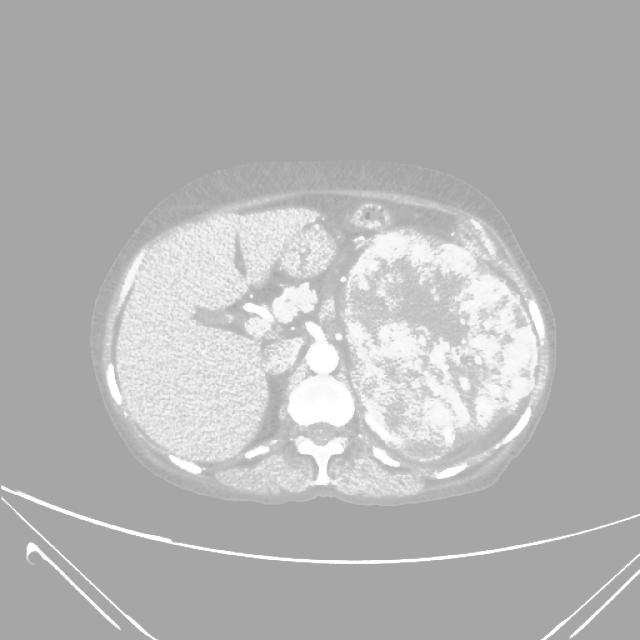TUMOR: (302, 196, 504, 400)
